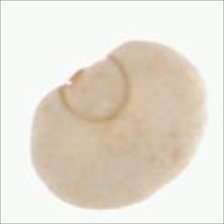L5: (57, 53, 134, 127), (138, 148, 195, 202)
L6: (21, 37, 211, 214)
